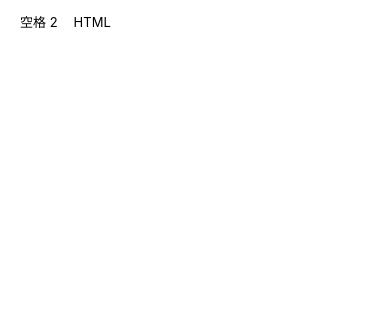
uses a keyboard-accessible indentation menu and changes only the open file settings
This screenshot has width=368, height=320.
Expected: the button with aria-label "语法高亮语言：HTML" is shown, 66,12 -> 119,33
Press Enter in the button with aria-label "缩进：空格 2", box 12,12 -> 66,33
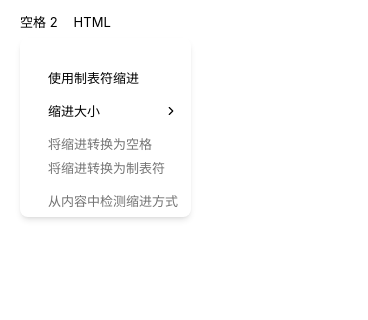
Click the menu item "使用制表符缩进". click: {"x": 94, "y": 78}
box: 48,70 -> 139,86
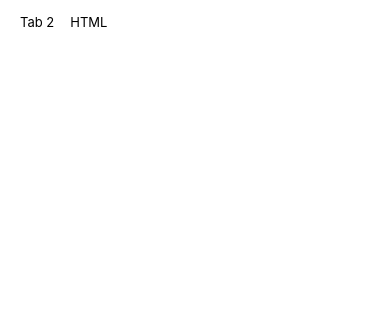
Expected: the button named "缩进：空格 2" reads "Tab 2"
Press Enter in the button named "缩进：空格 2", box 12,12 -> 62,33
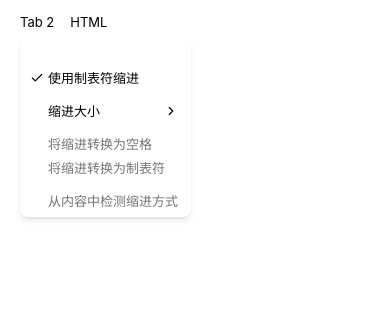
Expected: the menu item "使用制表符缩进" is checked, 30,70 -> 139,86
Press ArrowRight in the menu item "缩进大小", box 48,103 -> 178,119
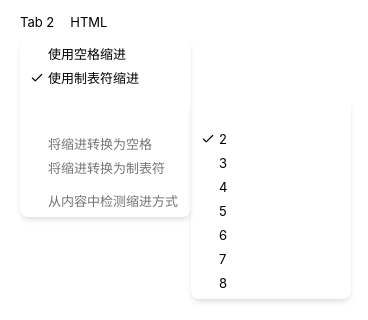
Click the menu item "4". click: {"x": 223, "y": 187}
box: 219,179 -> 227,195
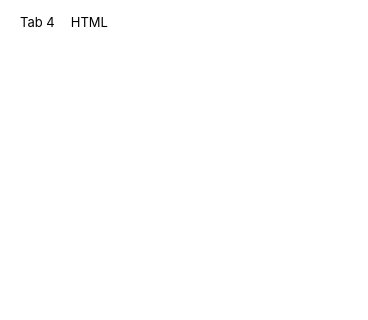
Expected: the button named "缩进：空格 2" reads "Tab 4", 12,12 -> 63,33
